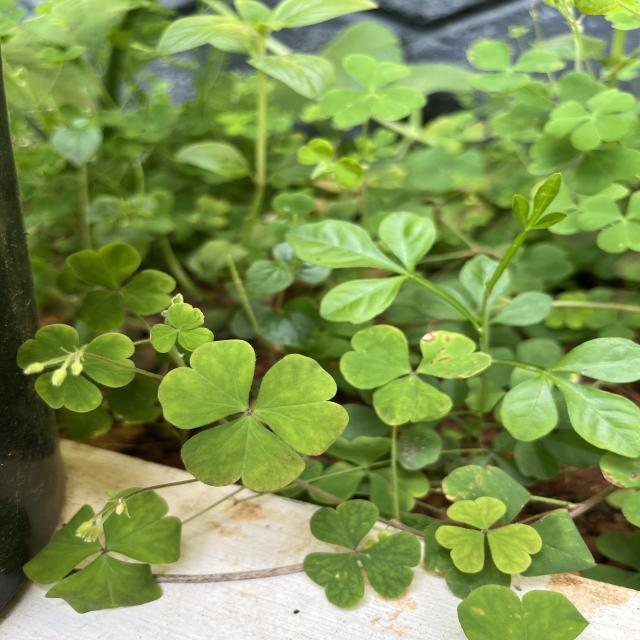Oxalis corniculata: (155, 337, 350, 493), (338, 323, 494, 427), (302, 498, 422, 609), (65, 240, 177, 332), (433, 495, 543, 575), (544, 88, 638, 151), (147, 302, 215, 354)
